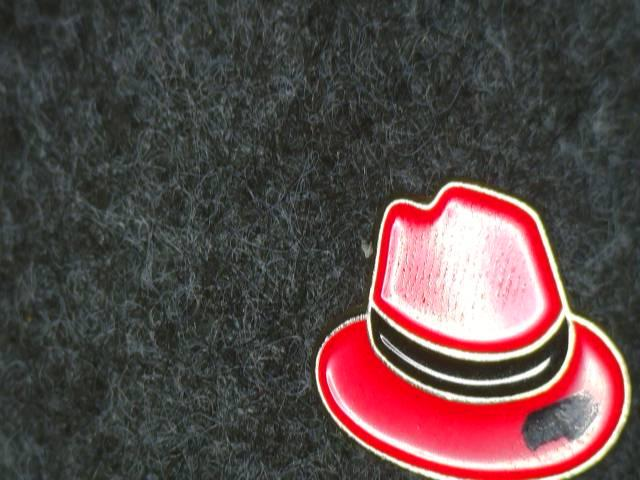Red-Hat: (282, 158, 640, 480)
Scratch: (513, 384, 614, 453)
